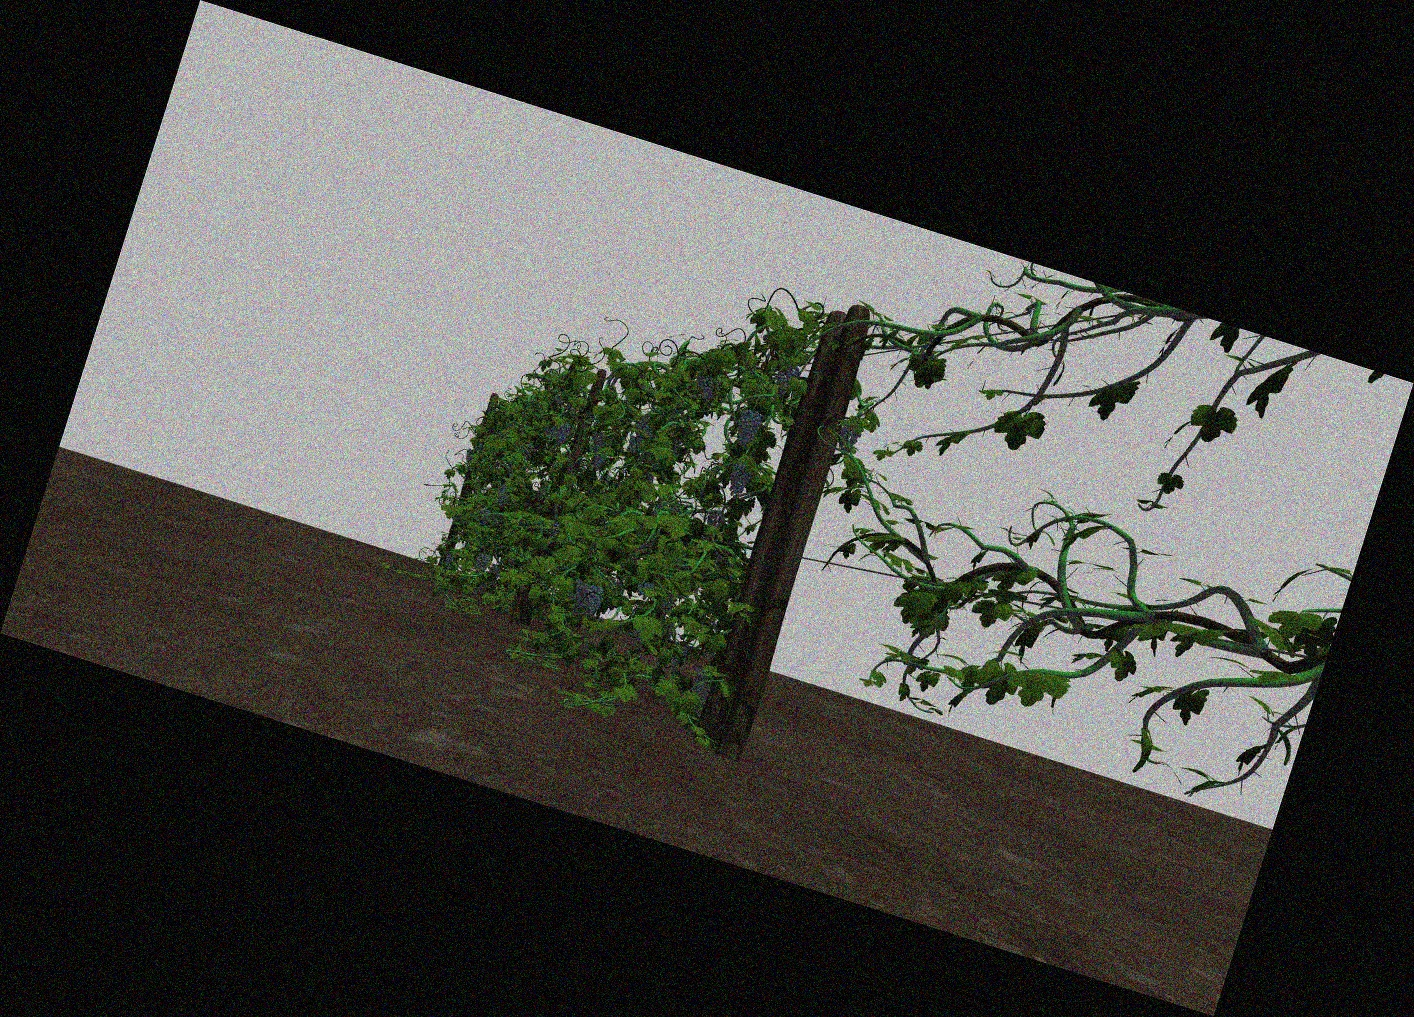grape: (737, 409, 760, 448), (731, 461, 751, 498), (840, 420, 860, 455), (776, 368, 797, 396), (569, 579, 586, 608), (585, 586, 602, 614), (696, 376, 712, 402), (636, 420, 651, 442), (555, 423, 569, 445), (592, 431, 607, 449), (474, 554, 489, 573), (497, 487, 510, 506), (593, 452, 605, 469), (444, 555, 454, 568), (465, 448, 473, 462)
